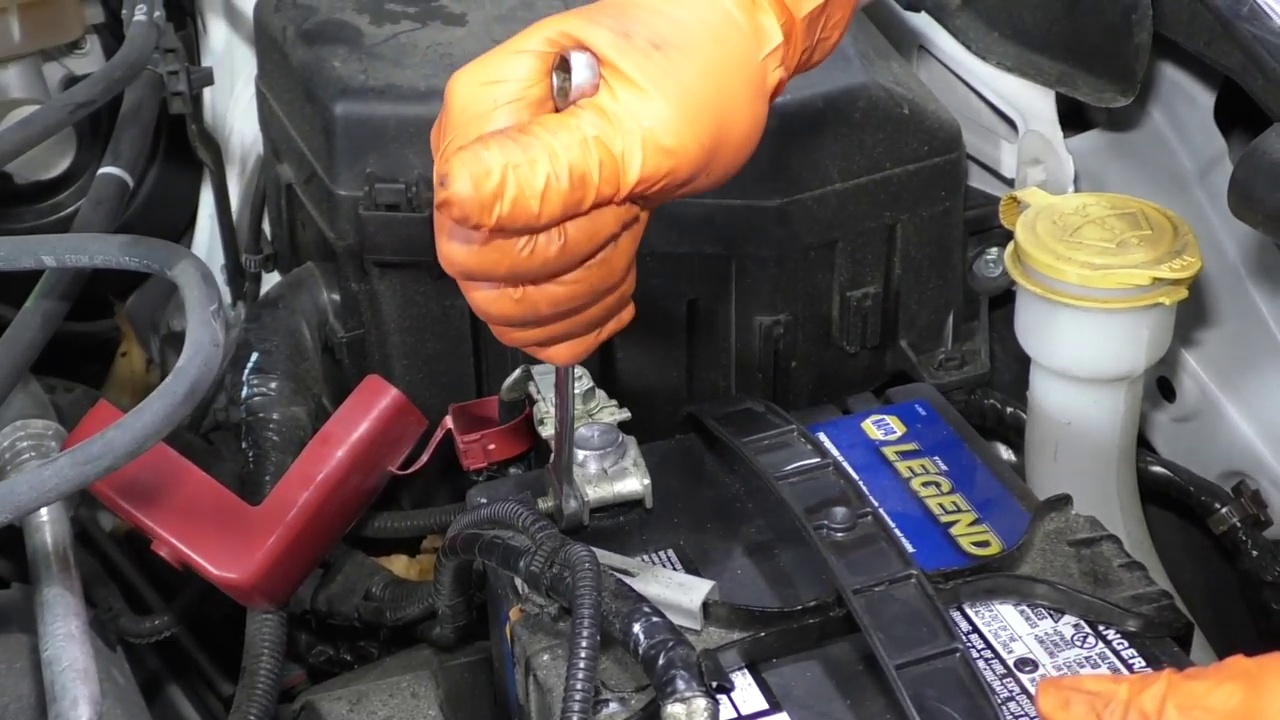battery: (457, 378, 1196, 720)
pos_connected: (483, 340, 662, 528)
pos_touched: (421, 186, 669, 520)
